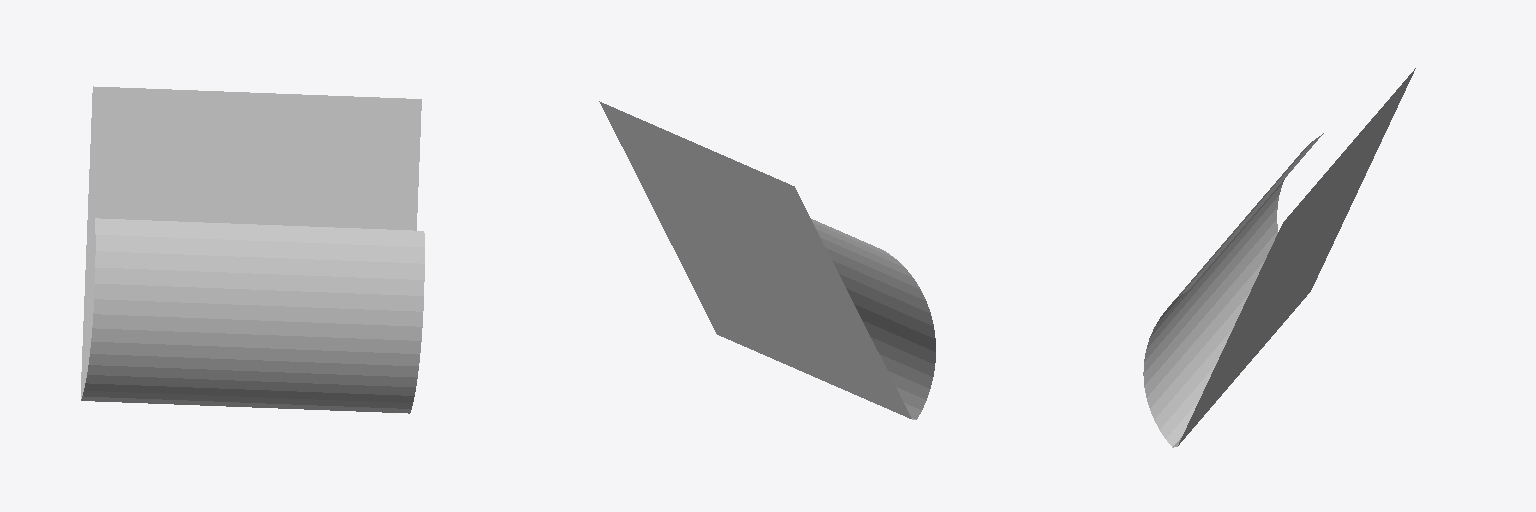
Rendered from typewriterPaper.obj.
3 views of the same model, side by side, from view 1: azimuth 30°, elevation 25°; view 2: azimuth 150°, elevation 25°; view 3: azimuth 270°, elevation 25° (orthographic).
Bounding box in the file's own units: 1.21 × 0.9887 × 0.8577.